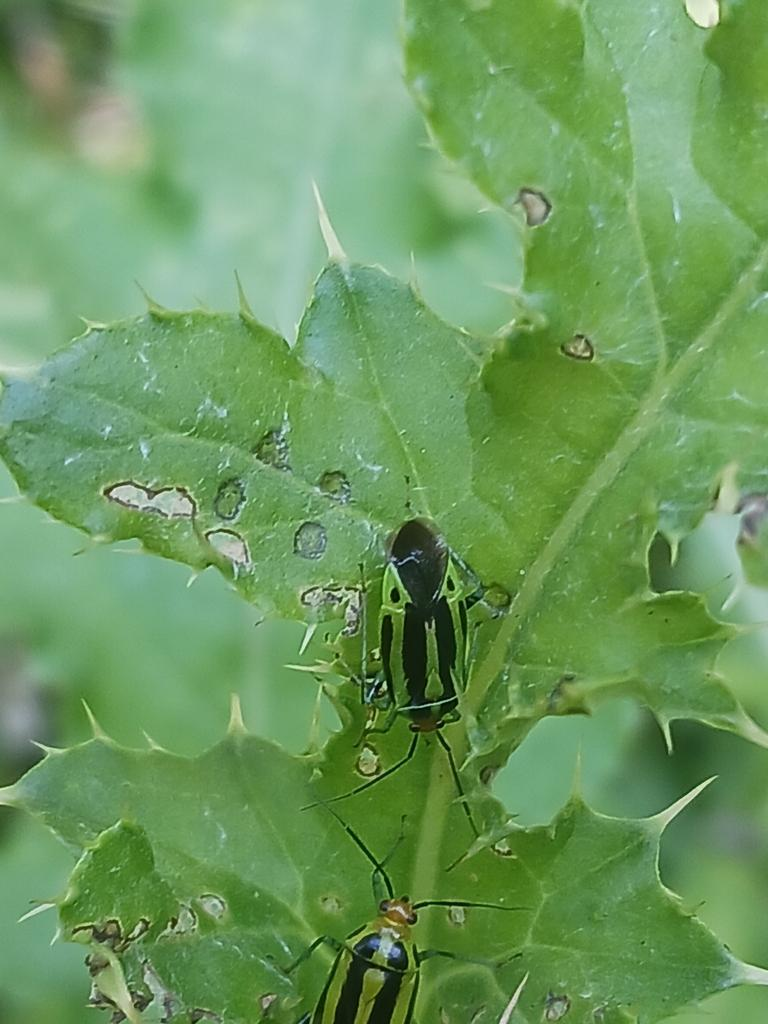plant_bugs: (286, 480, 546, 870), (246, 789, 543, 1024)
